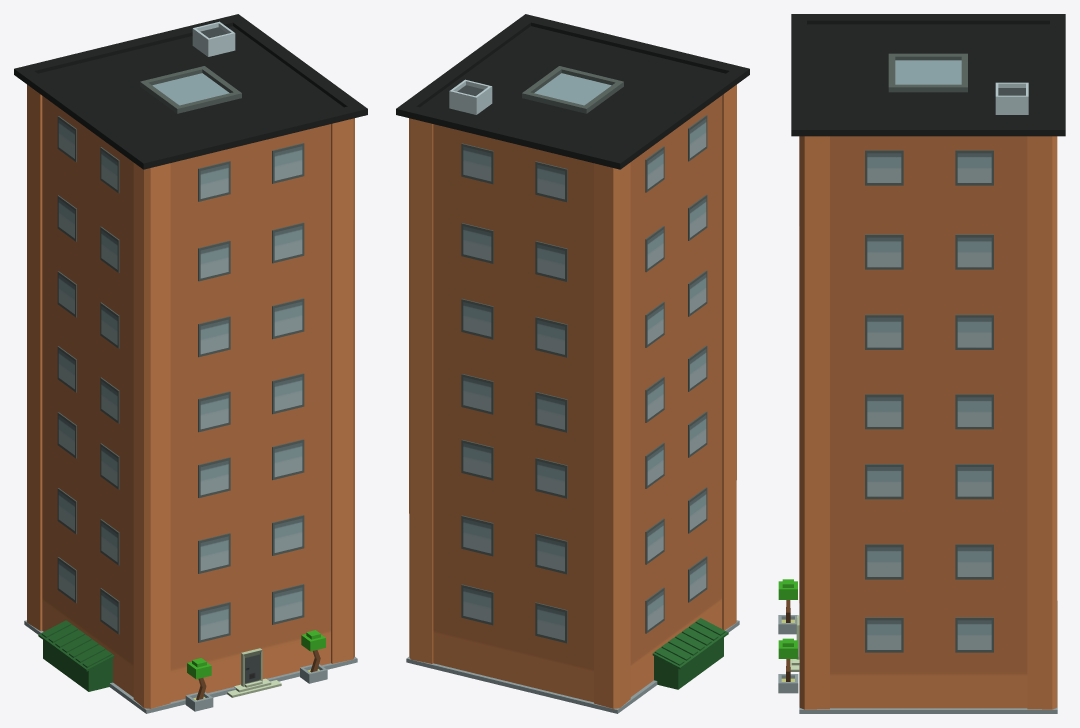
The model's file is Basic Highest.fbx.
3 renders of one model, left to right at view 1: azimuth 30°, elevation 25°; view 2: azimuth 150°, elevation 25°; view 3: azimuth 270°, elevation 25°, orthographic. The views are drawn at different scales.
Parts seen in each view (by area): view 1: Basic Highest; view 2: Basic Highest; view 3: Basic Highest.
Part boxes in pixels (left/top/right/bottom): Basic Highest: left=14, top=14, right=367, bottom=713; Basic Highest: left=396, top=14, right=749, bottom=713; Basic Highest: left=778, top=14, right=1065, bottom=713.
Bounding box in the file's own units: 6.15 × 13.82 × 5.97.
